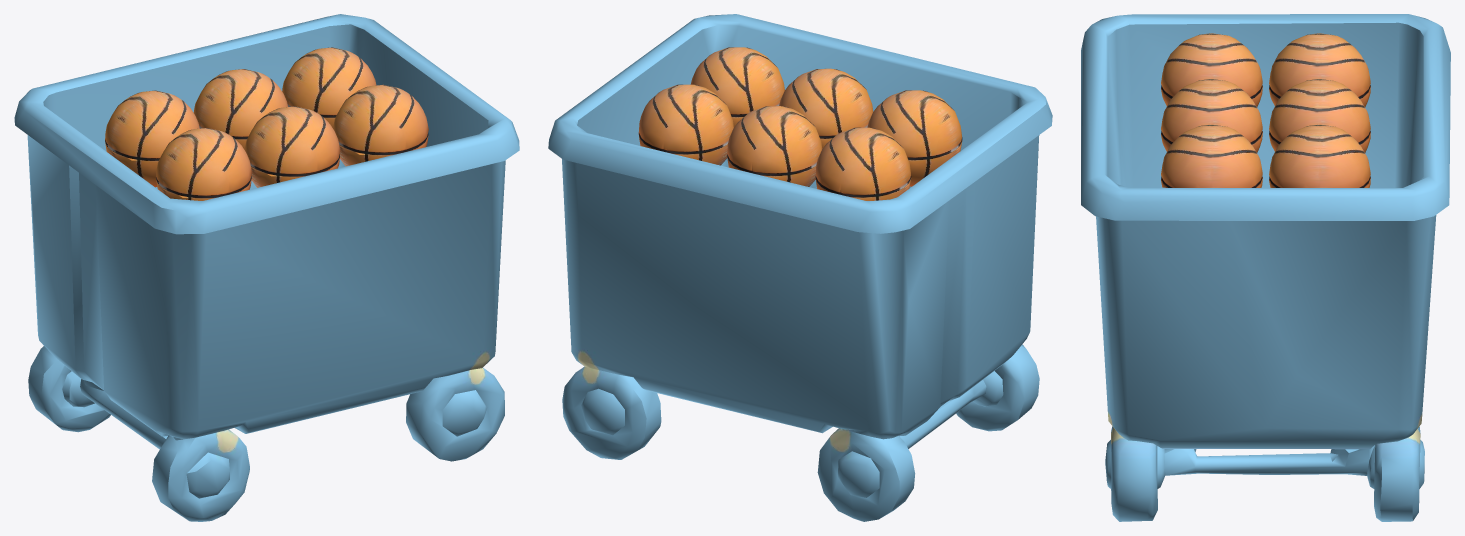
3 views of the same model, side by side, from view 1: azimuth 30°, elevation 25°; view 2: azimuth 150°, elevation 25°; view 3: azimuth 270°, elevation 25° (orthographic). The views are drawn at different scales.
Parts seen in each view (by area): view 1: Decor_gym_ball_cart; view 2: Decor_gym_ball_cart; view 3: Decor_gym_ball_cart.
Part boxes in pixels (x1=…): Decor_gym_ball_cart: x1=14, y1=14, x2=519, y2=521; Decor_gym_ball_cart: x1=548, y1=14, x2=1052, y2=521; Decor_gym_ball_cart: x1=1081, y1=14, x2=1450, y2=521.
Size of the model in its own units: 1.04 by 0.948 by 0.8627.
2 materials, 2 textured.
